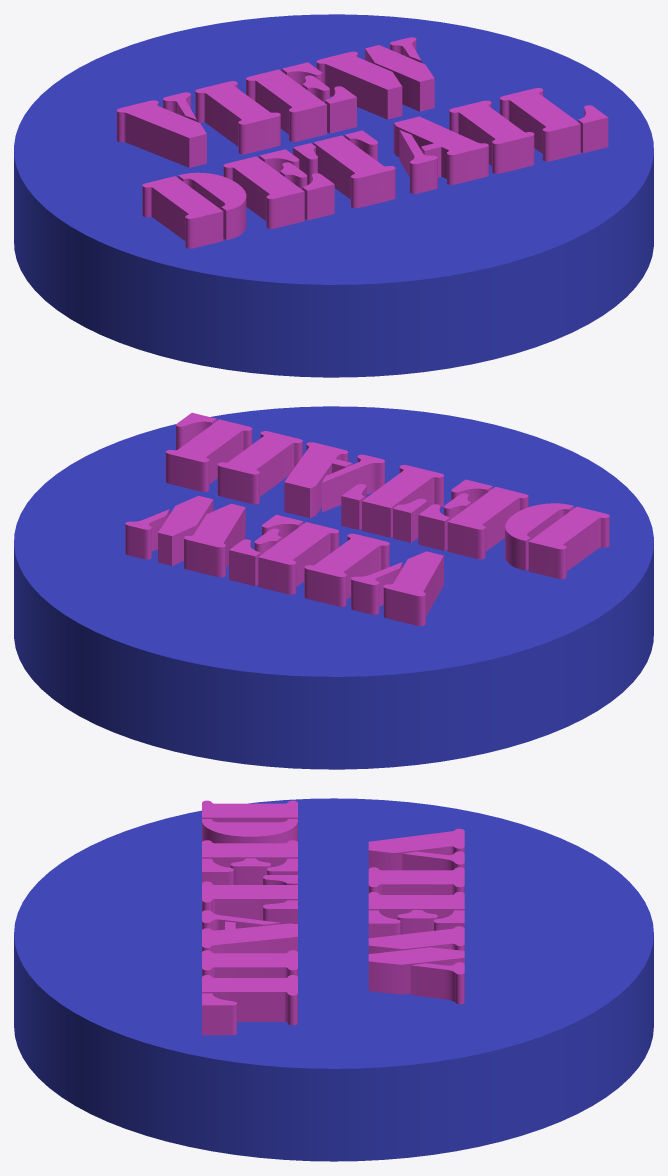
The model's file is buttonDetail.fbx.
The picture shows the model from 3 angles, top to bottom: view 1: azimuth 30°, elevation 25°; view 2: azimuth 150°, elevation 25°; view 3: azimuth 270°, elevation 25°; orthographic projection.
Visible parts, largest first — view 1: root, node_id112 (×2); view 2: root, node_id112 (×2); view 3: root, node_id112 (×2).
Boxes of the visible parts, x1,y1,x2,y2 form: root: [14, 14, 653, 377]; node_id112 (×2): [116, 37, 608, 248]; root: [14, 406, 653, 769]; node_id112 (×2): [125, 412, 609, 625]; root: [14, 798, 653, 1161]; node_id112 (×2): [202, 800, 464, 1035].
Bounding box in the file's own units: 0.4953 × 0.1046 × 0.4953.
3 materials, 2 textured.
